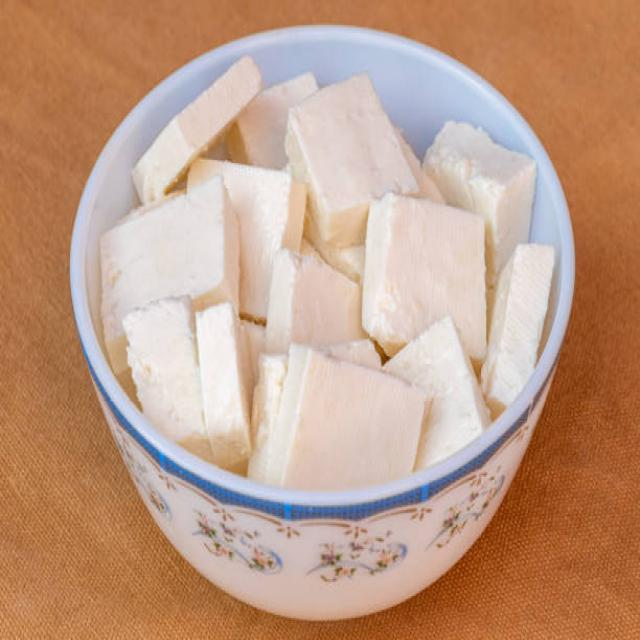tofu: (288, 72, 413, 240), (127, 293, 249, 446), (284, 352, 428, 475), (368, 194, 484, 346), (103, 183, 244, 306), (486, 241, 542, 402)
